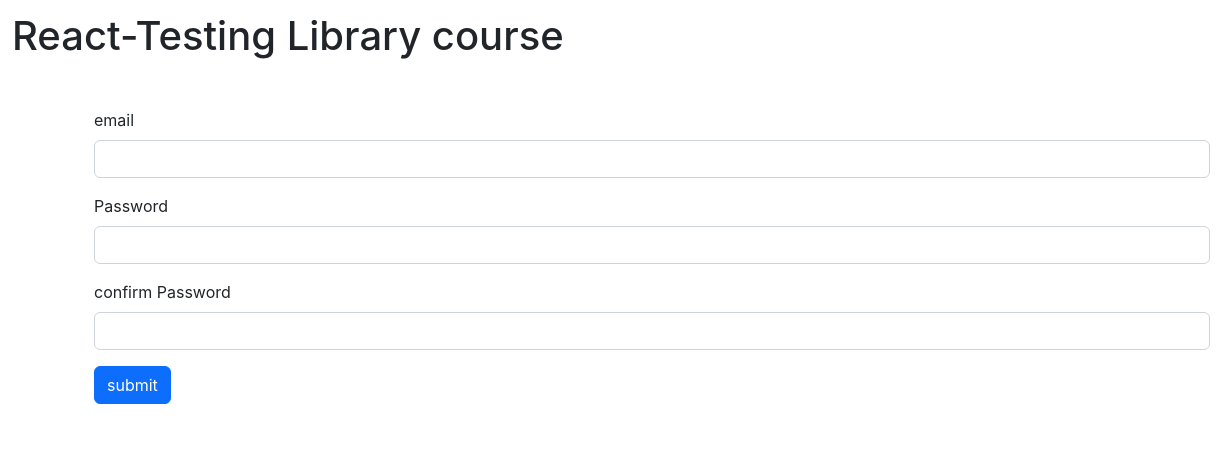
Form › Error Handling › should show confirm password if the passwords do not match
Type "odofing@gmail.com" into the field labelled "email" at (652,159), box x1=94 y1=140 x2=1210 y2=178
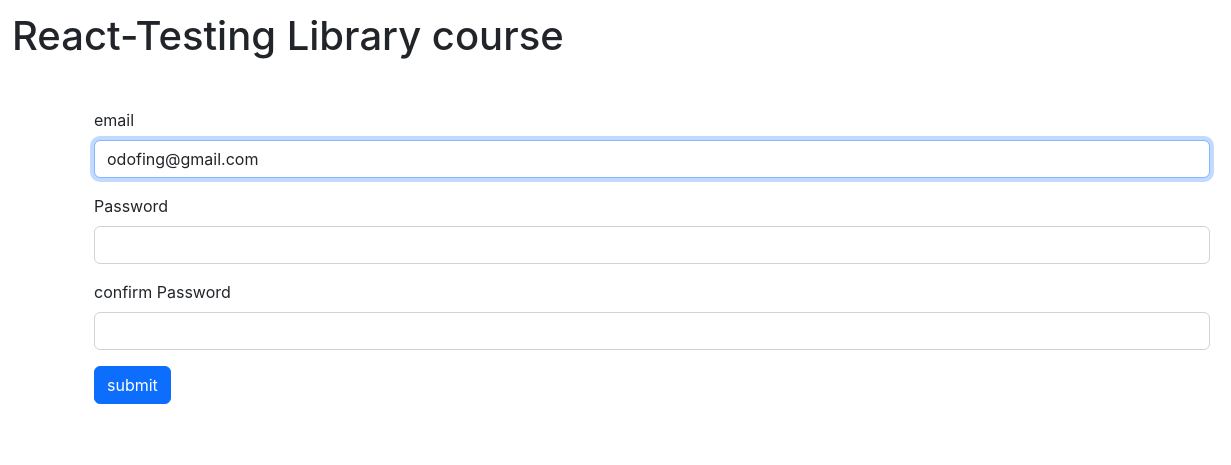
Type "12345" into the password field labelled "Password" at (652,245), box x1=94 y1=226 x2=1210 y2=264
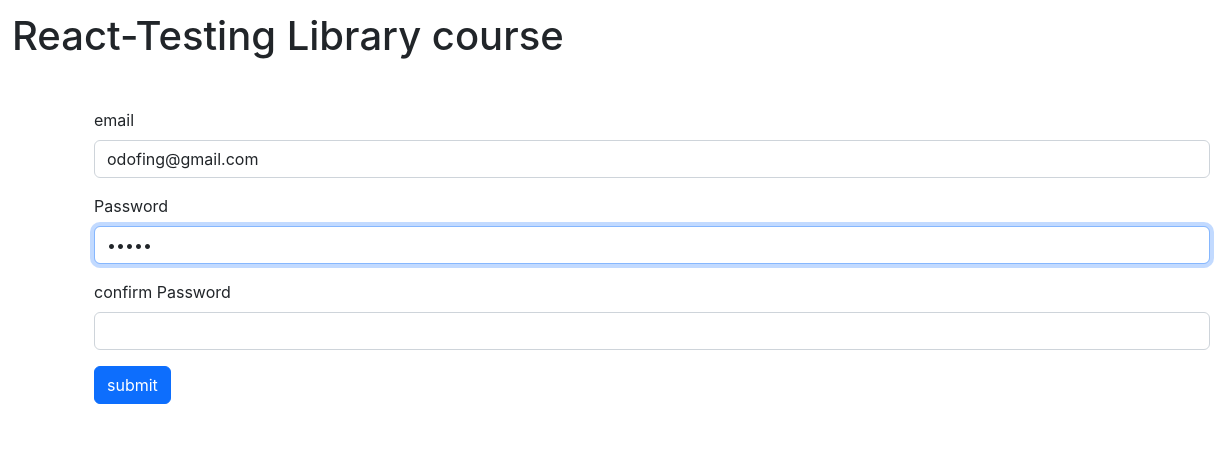
Expected: the text "the password do not match, try again" is not shown
Type "123456" into the password field labelled "confirm Password" at (652,331), box x1=94 y1=312 x2=1210 y2=350
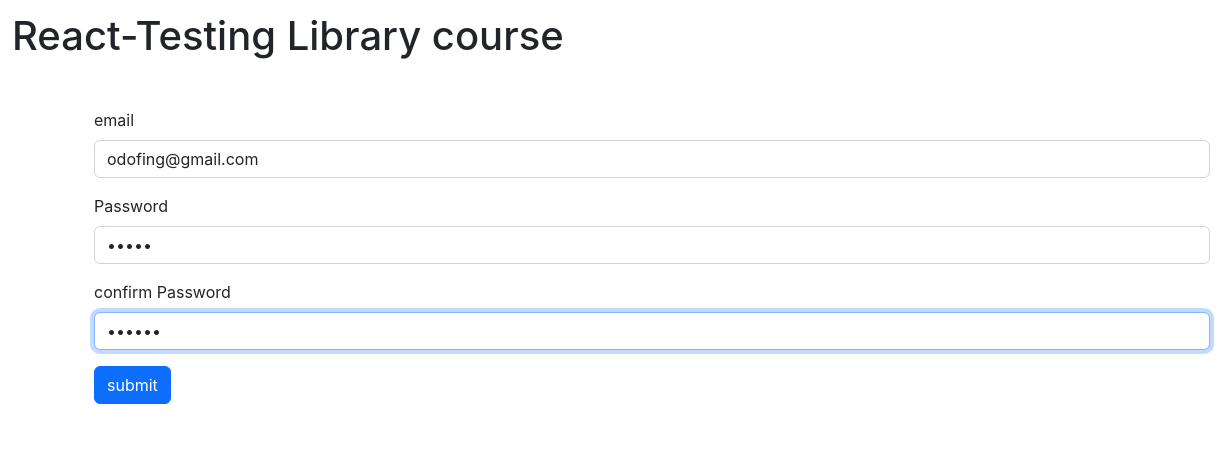
Click the button "submit" at (132,385), box x1=94 y1=366 x2=171 y2=404
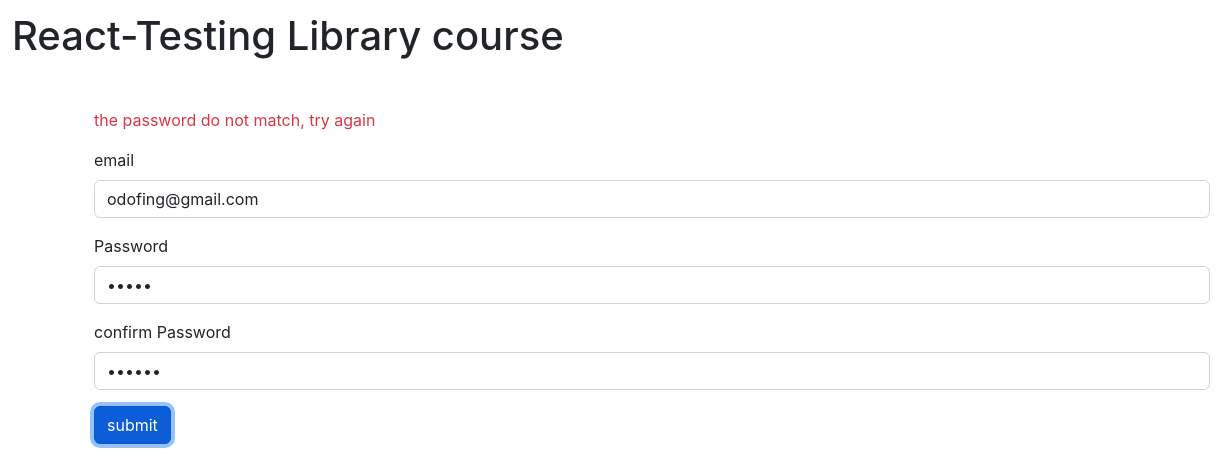
Result: the text "the password do not match, try again" is shown at x1=94 y1=110 x2=375 y2=130
